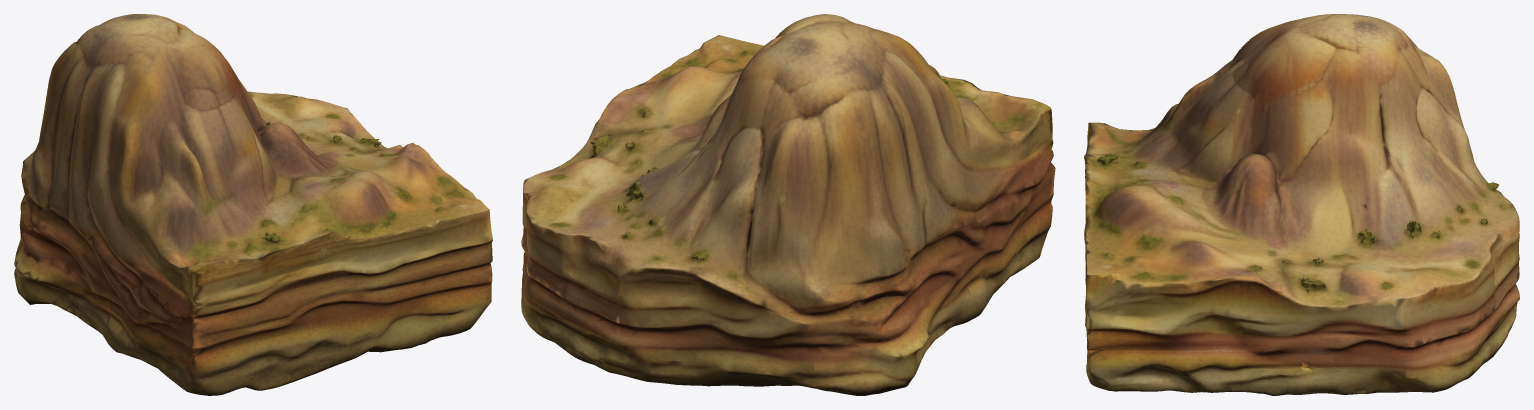
3 renders of one model, left to right at view 1: azimuth 30°, elevation 25°; view 2: azimuth 150°, elevation 25°; view 3: azimuth 270°, elevation 25°, orthographic. The views are drawn at different scales.
Visible parts, largest first — view 1: world; view 2: world; view 3: world.
Part boxes in pixels (x1=…): world: x1=14, y1=14, x2=492, y2=395; world: x1=521, y1=14, x2=1055, y2=395; world: x1=1084, y1=14, x2=1519, y2=395.
Bounding box in the file's own units: 27.06 × 20.9 × 30.
Materials: 1 (1 with a texture image).
